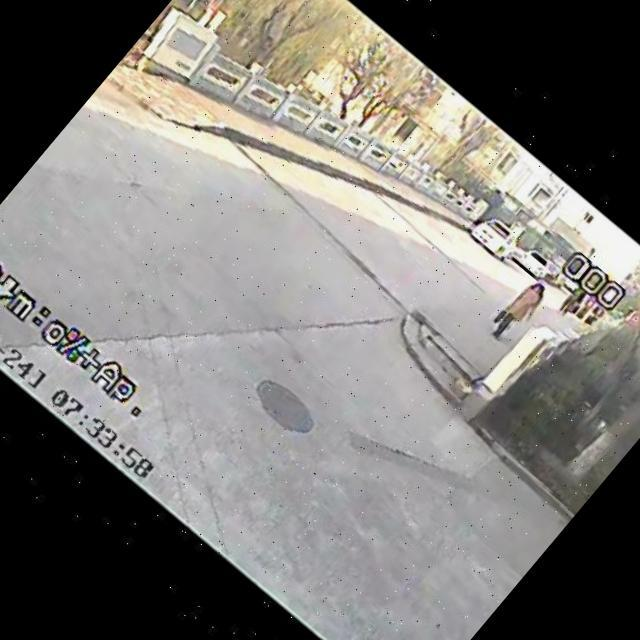person: (475, 258, 564, 354)
